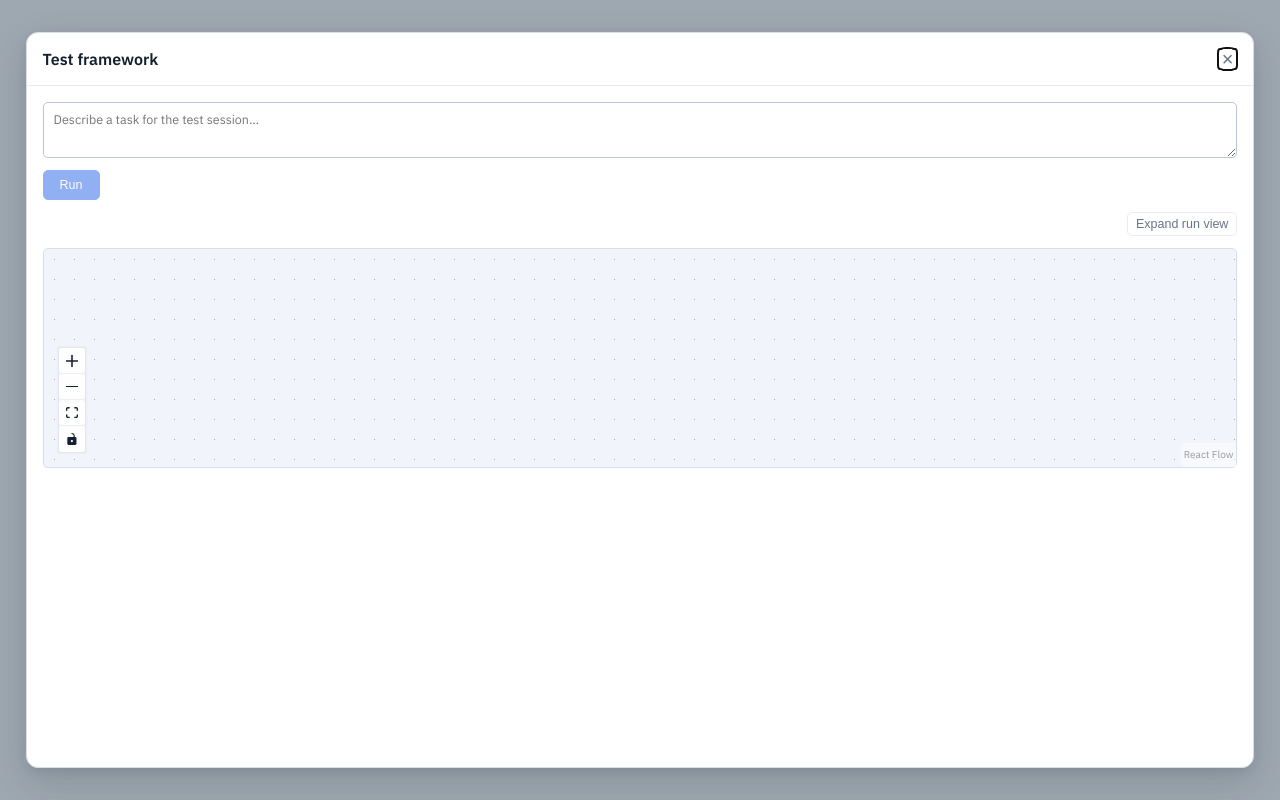
Scenario: TesterModal › renders_pass_result_when_outcome_passed_is_true
Type "a task" into the text box with test id "tester-task-input" at (640, 130), box [43,102,1237,158]
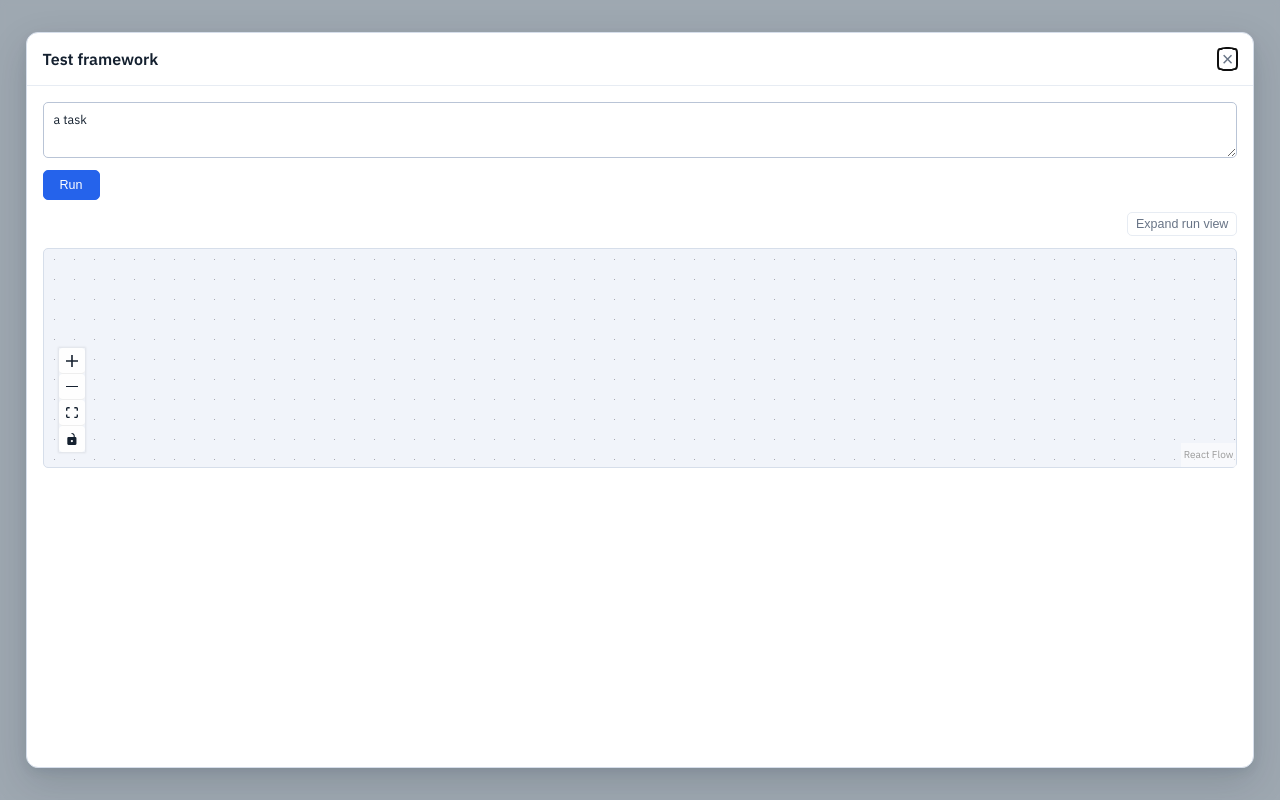
Click the button with test id "tester-run" at (71, 185), box [43,170,100,200]
(page scrolled)
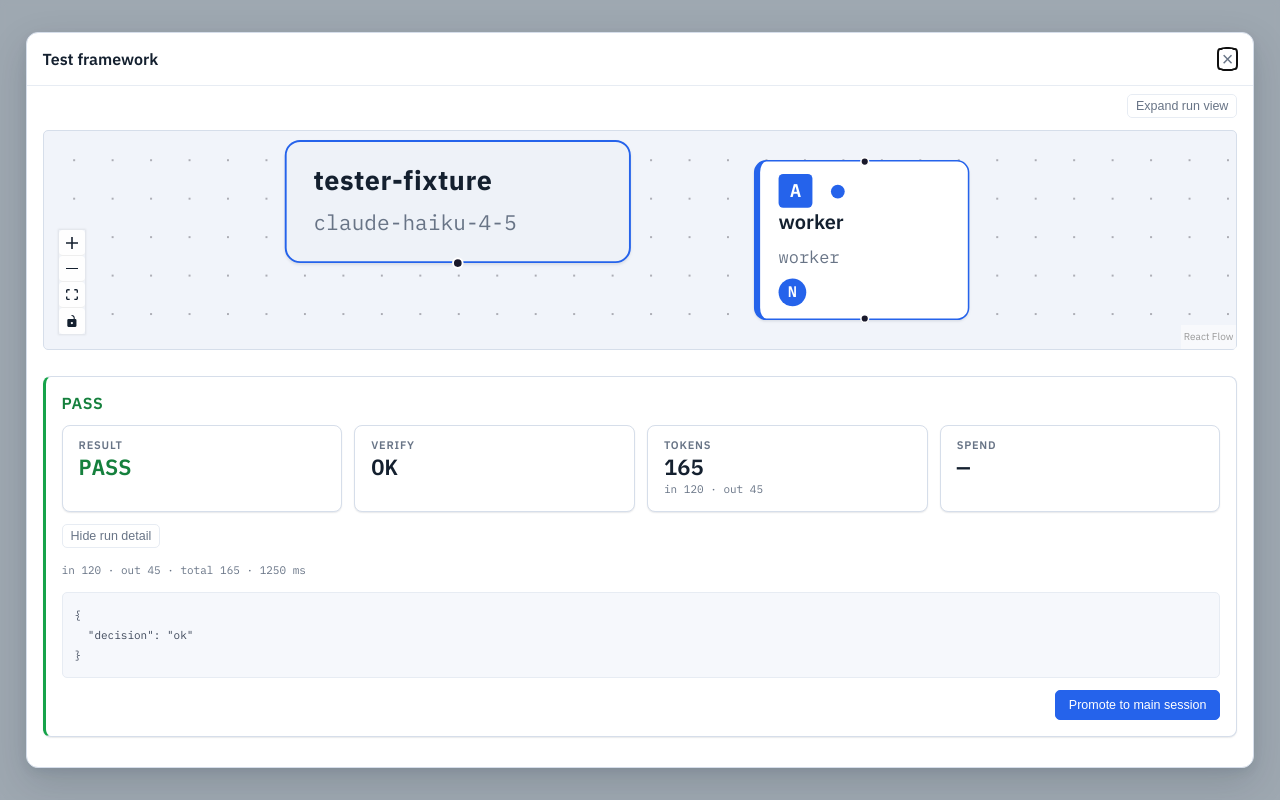
Now the header with test id "tester-result-verdict" reads "PASS", box [62,393,104,413]
